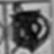not correct: (7, 2, 53, 53)
